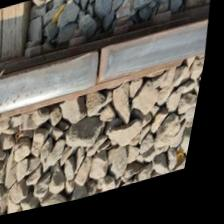person: (68, 38, 135, 106)
